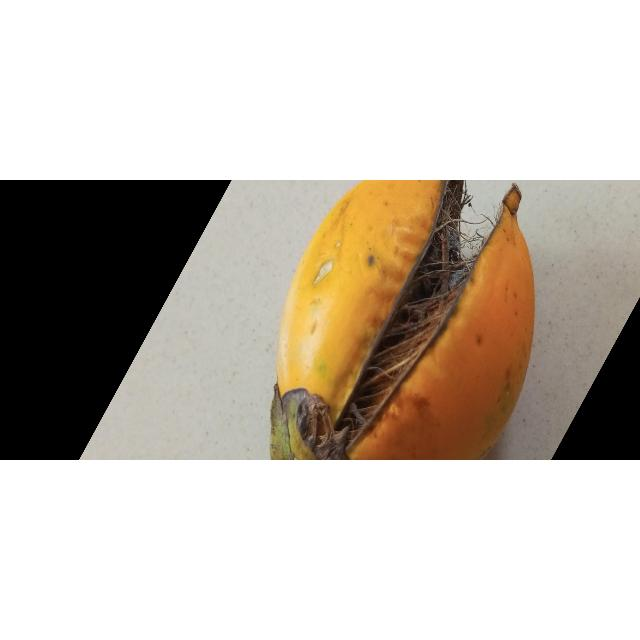damaged: (271, 180, 537, 461)
